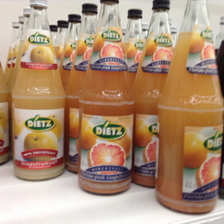juice: (157, 1, 222, 215), (79, 1, 135, 194), (11, 1, 66, 180)
